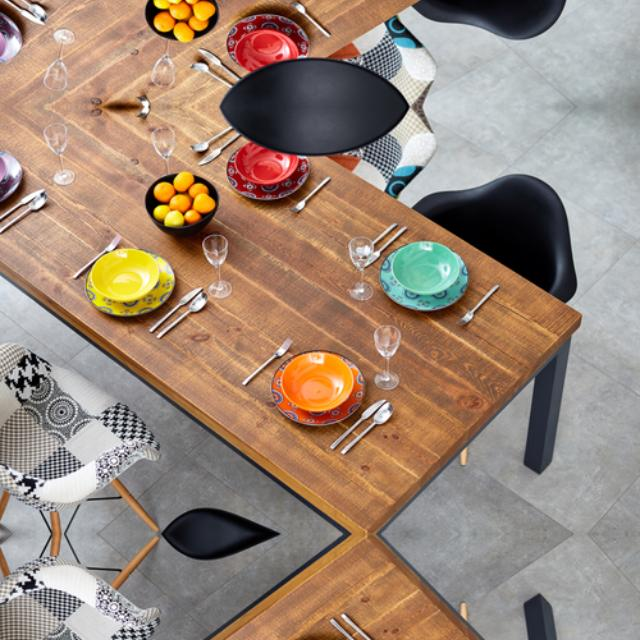obstacle: (8, 113, 590, 523), (7, 0, 590, 99), (7, 544, 590, 640)
